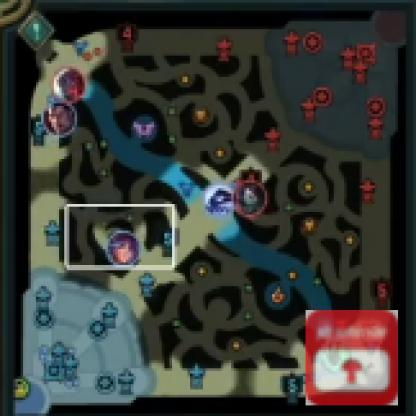Akali: (233, 179, 268, 217)
Darius: (41, 101, 78, 137)
Lillia: (105, 231, 142, 269)
Xerath: (201, 184, 238, 219)
Yone: (50, 66, 88, 104)
